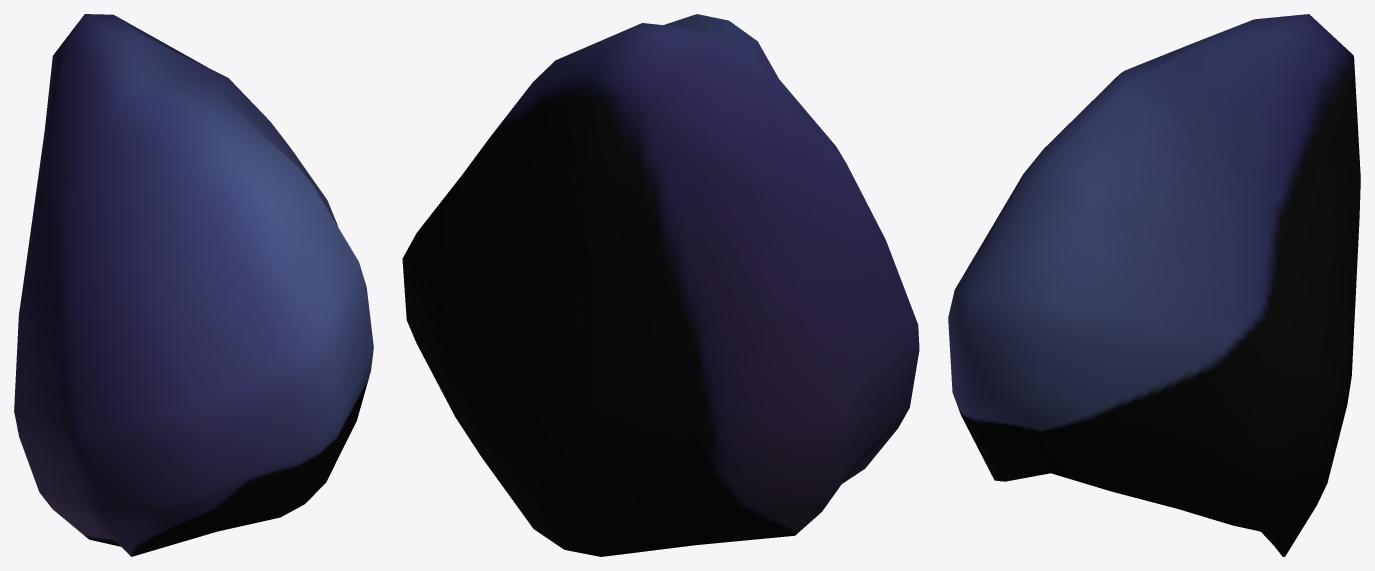
Rendered from Swamp_Rocks_2.glb.
The picture shows the model from 3 angles, left to right: view 1: azimuth 30°, elevation 25°; view 2: azimuth 150°, elevation 25°; view 3: azimuth 270°, elevation 25°; orthographic projection. The views are drawn at different scales.
Visible parts, largest first — view 1: Cube.009; view 2: Cube.009; view 3: Cube.009.
Part boxes in pixels (box(x1,y1,x2,y2)): Cube.009: box(14, 14, 373, 556); Cube.009: box(402, 14, 919, 556); Cube.009: box(948, 14, 1360, 556).
Bounding box in the file's own units: 72.98 × 95.76 × 71.18.
1 material, 1 textured.
